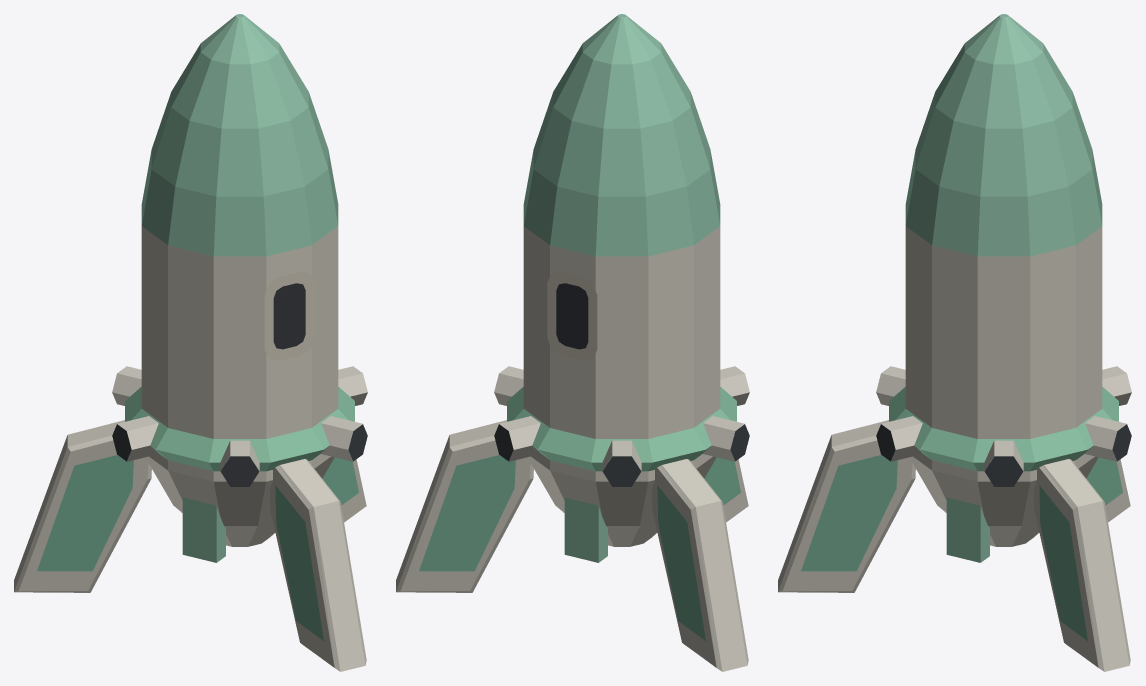
The model's file is rocket.glb.
3 views of the same model, side by side, from view 1: azimuth 30°, elevation 25°; view 2: azimuth 150°, elevation 25°; view 3: azimuth 270°, elevation 25° (orthographic).
Visible parts, largest first — view 1: toy-rocket; view 2: toy-rocket; view 3: toy-rocket.
Part boxes in pixels (x1=…): toy-rocket: x1=14, y1=14, x2=367, y2=671; toy-rocket: x1=396, y1=14, x2=749, y2=671; toy-rocket: x1=778, y1=14, x2=1131, y2=671.
Size of the model in its own units: 0.3512 by 0.545 by 0.3062.
